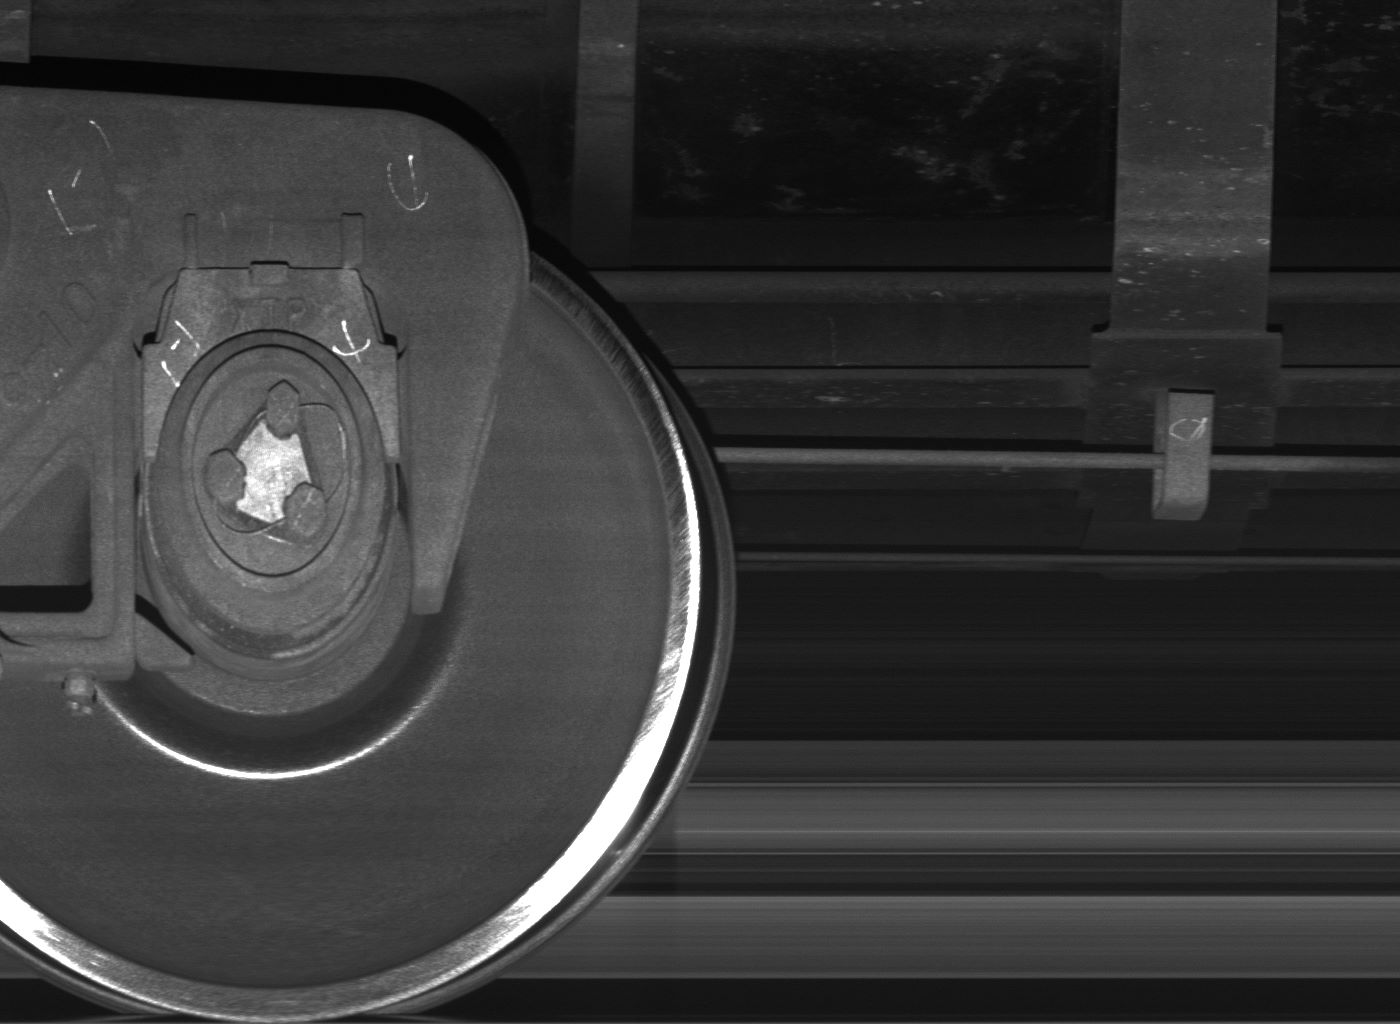normal: (1152, 390, 1214, 522)
